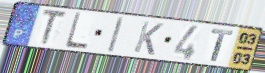4: (171, 24, 201, 62)
I: (106, 16, 126, 54)
K: (132, 20, 166, 57)
L: (63, 11, 90, 51)
T: (40, 8, 69, 47), (209, 28, 235, 63)
